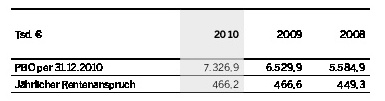table: (0, 0, 385, 101)
